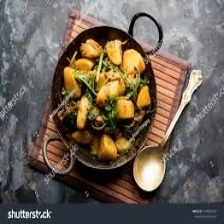sabzi: (54, 36, 154, 164)
